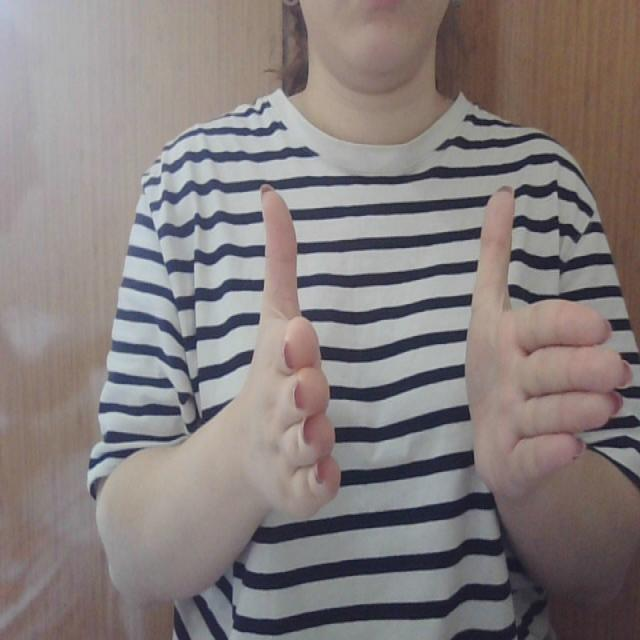Nasil: (221, 172, 636, 554)
